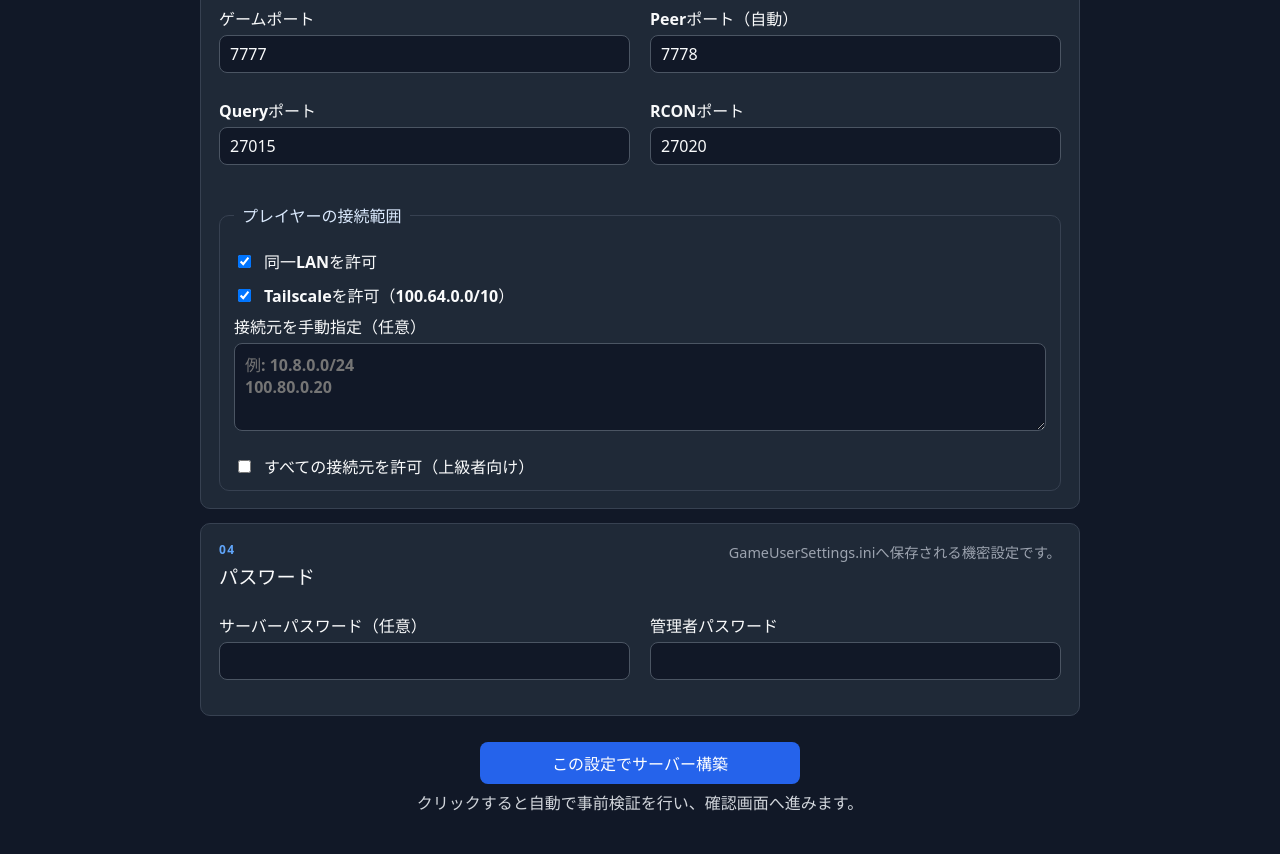
App › 配布版ではARKのデモ構築を表示しない
The image size is (1280, 854).
(page scrolled)
Click the button "この設定でサーバー構築" at coordinates (640, 763), box [480, 742, 800, 784]
(page scrolled)
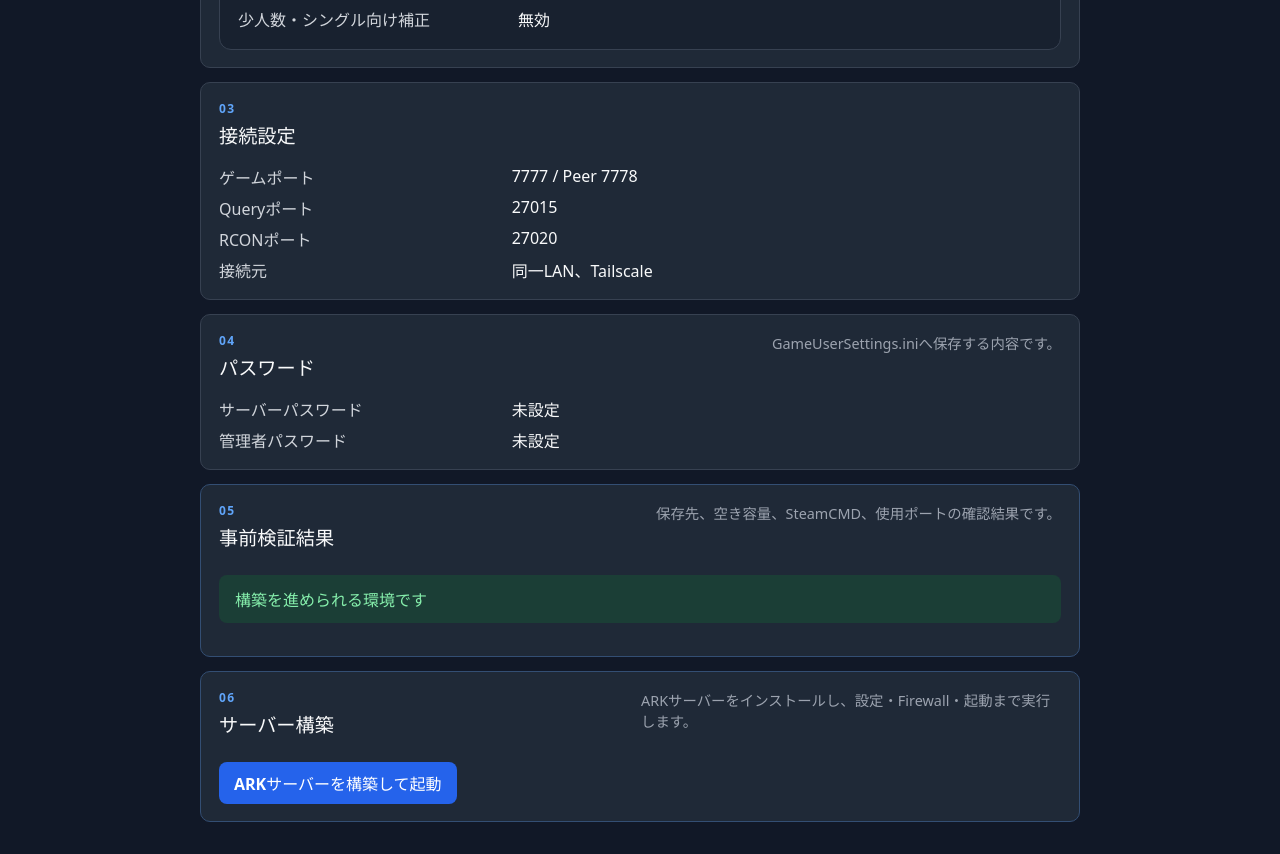
Check: the heading "事前検証結果" is shown, box [219, 523, 334, 551]
Check: the button "ARKサーバーを構築して起動" is shown, box [219, 762, 457, 804]
